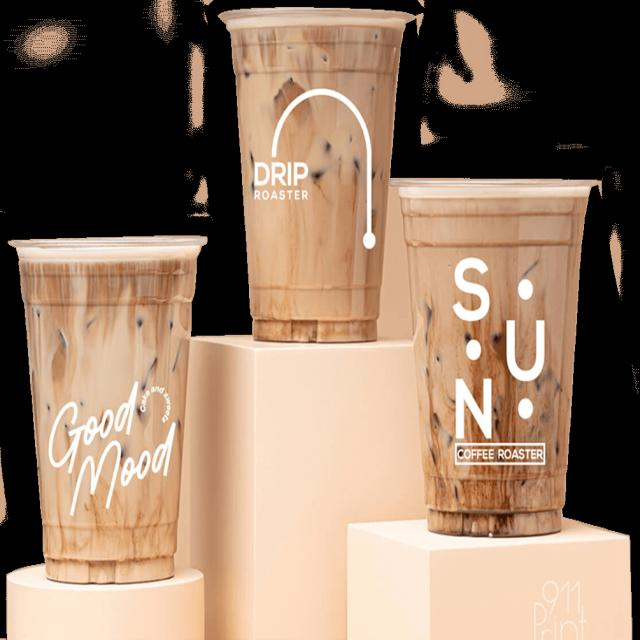cup: (383, 172, 603, 540), (5, 228, 210, 586), (211, 3, 419, 342)
